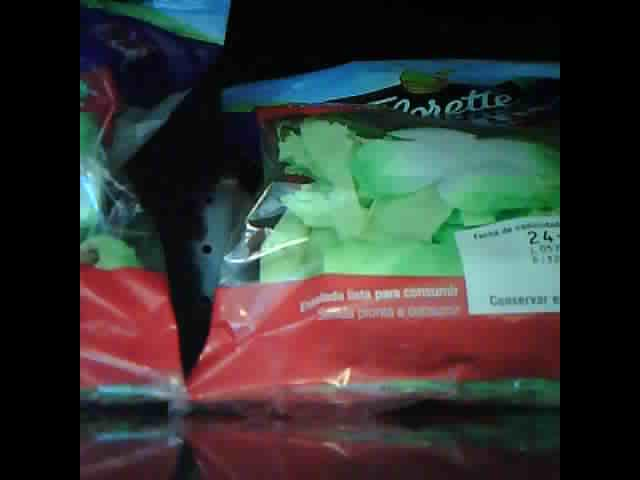florette: (177, 55, 561, 415), (79, 1, 232, 419)
